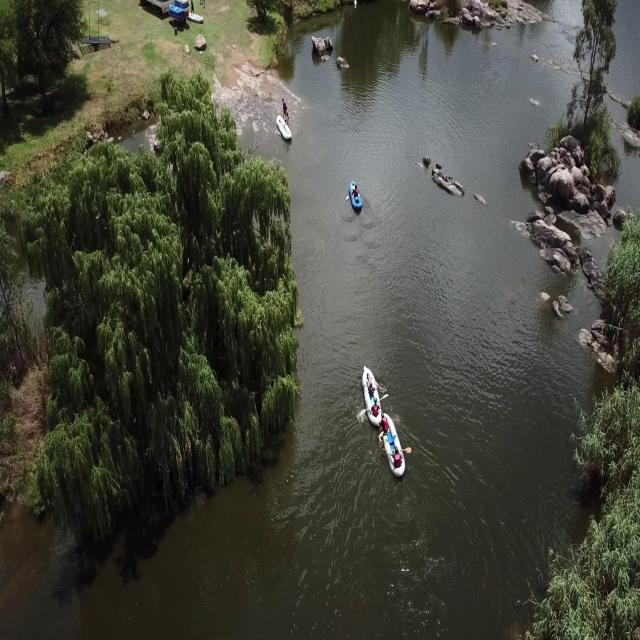kayak: (379, 414, 407, 479), (357, 365, 387, 425), (346, 180, 364, 215)
